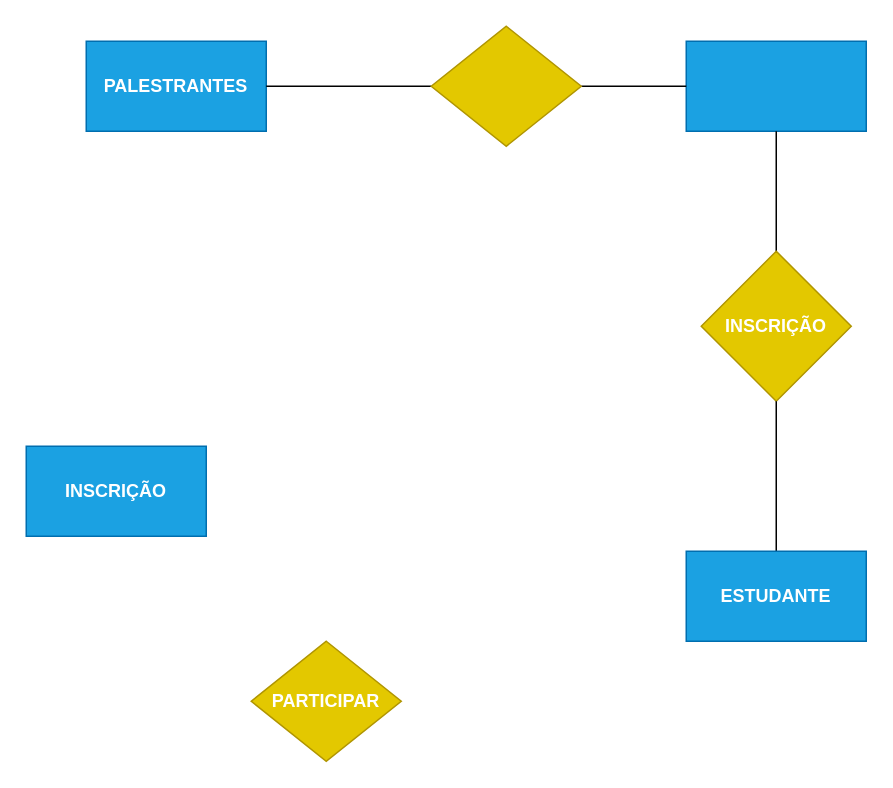
This 893x788 diagram has some shape labels left out. The box of each missing label's shape, as (x1, y1, x2, y2) in pixels:
EVENTOS: (685, 40, 866, 131)
MINISTRAR: (430, 25, 581, 146)
